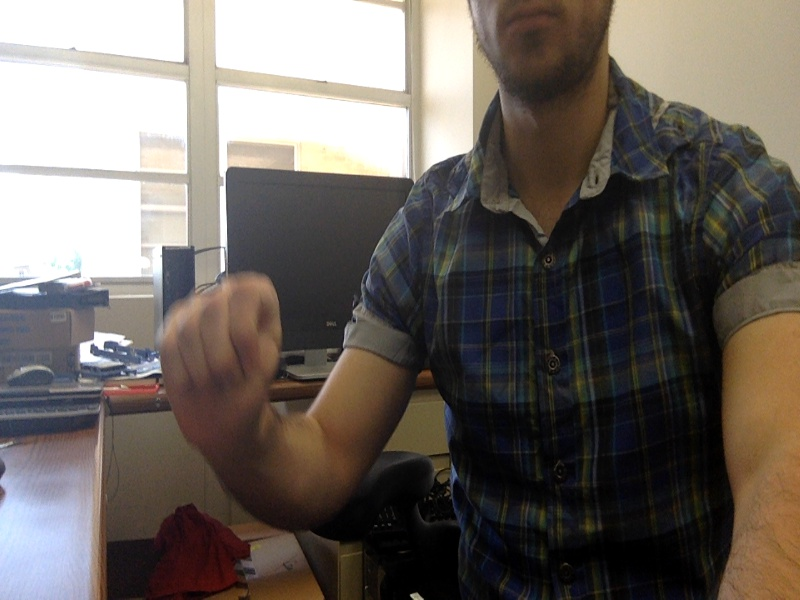0-hand: (157, 277, 283, 443)
